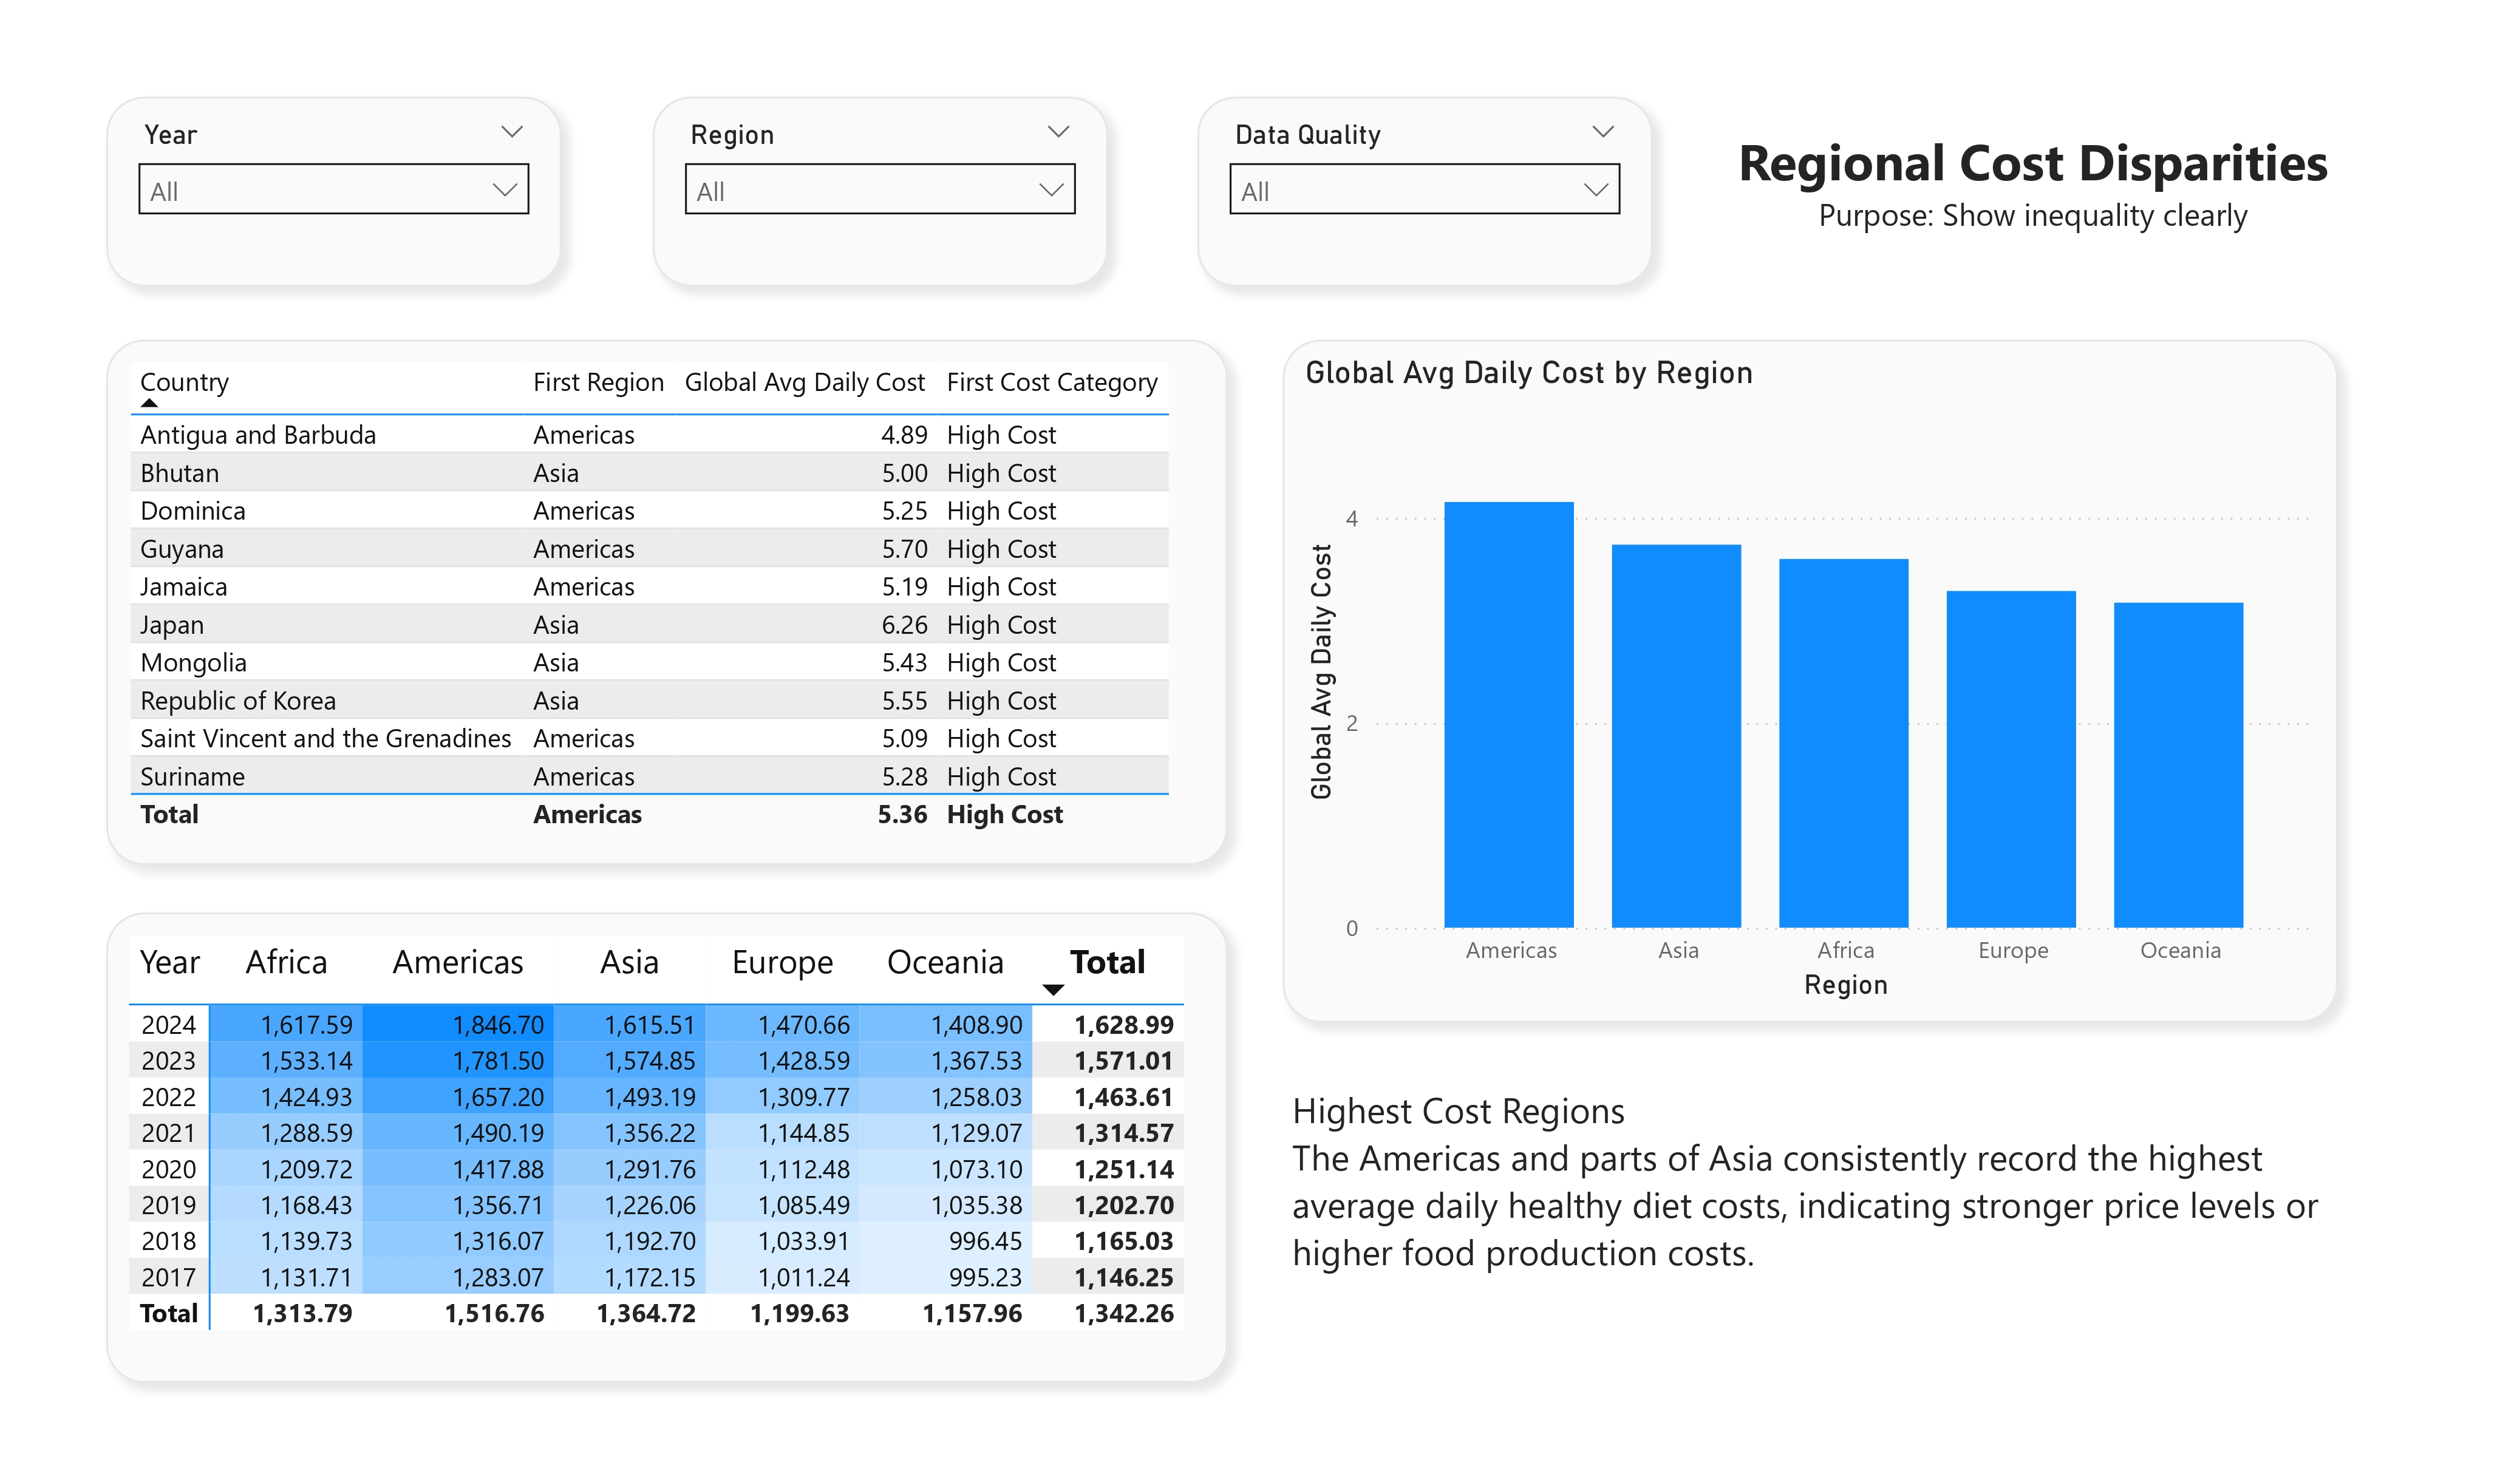

The page's visual inventory and layout, read from the dashboard file:
{"tool":"powerbi","page":{"name":"Regional Cost Disparities","canvas":[1280,720],"ordinal":1},"visuals":[{"type":"tableEx","fields":{"Values":["price_of_healthy_diet_corrected.Country","Min(price_of_healthy_diet_corrected.Region)","price_of_healthy_diet_corrected.Global Avg Daily Cost","Min(price_of_healthy_diet_corrected.Cost Category)"]},"box":[31.7,155,591.7,276.7],"z":0},{"type":"columnChart","fields":{"Category":["price_of_healthy_diet_corrected.Region"],"Y":["price_of_healthy_diet_corrected.Global Avg Daily Cost"]},"box":[651.7,155,556.7,360],"z":1000},{"type":"pivotTable","fields":{"Rows":["price_of_healthy_diet_corrected.Year"],"Columns":["price_of_healthy_diet_corrected.Region"],"Values":["price_of_healthy_diet_corrected.Global Avg Annual Cost"]},"box":[31.7,456.7,591.7,248.3],"z":2000},{"type":"slicer","fields":{"Values":["price_of_healthy_diet_corrected.Year"]},"box":[31.7,26.7,240,100],"z":3000},{"type":"slicer","fields":{"Values":["price_of_healthy_diet_corrected.Region"]},"box":[320,26.7,240,100],"z":4000},{"type":"slicer","fields":{"Values":["price_of_healthy_diet_corrected.Data Quality"]},"box":[606.7,26.7,240,100],"z":5000},{"type":"textbox","box":[866.7,36.7,361.7,76.7],"z":6000},{"type":"textbox","box":[651.7,543.3,556.7,141.7],"z":6001}]}

Visuals, with their boxes on the page's 1280x720 design canvas (x1, y1, x2, y2). These are canvas units, not pixel positions in the 2520x1457 screenshot, which may show the page scaled, cropped or inside an application window:
tableEx - price_of_healthy_diet_corrected.Country x Min(price_of_healthy_diet_corrected.Region): {"left": 32, "top": 155, "right": 623, "bottom": 432}
columnChart - price_of_healthy_diet_corrected.Region x price_of_healthy_diet_corrected.Global Avg Daily Cost: {"left": 652, "top": 155, "right": 1208, "bottom": 515}
pivotTable - price_of_healthy_diet_corrected.Year x price_of_healthy_diet_corrected.Region: {"left": 32, "top": 457, "right": 623, "bottom": 705}
slicer - price_of_healthy_diet_corrected.Year: {"left": 32, "top": 27, "right": 272, "bottom": 127}
slicer - price_of_healthy_diet_corrected.Region: {"left": 320, "top": 27, "right": 560, "bottom": 127}
slicer - price_of_healthy_diet_corrected.Data Quality: {"left": 607, "top": 27, "right": 847, "bottom": 127}
textbox: {"left": 867, "top": 37, "right": 1228, "bottom": 113}
textbox: {"left": 652, "top": 543, "right": 1208, "bottom": 685}
